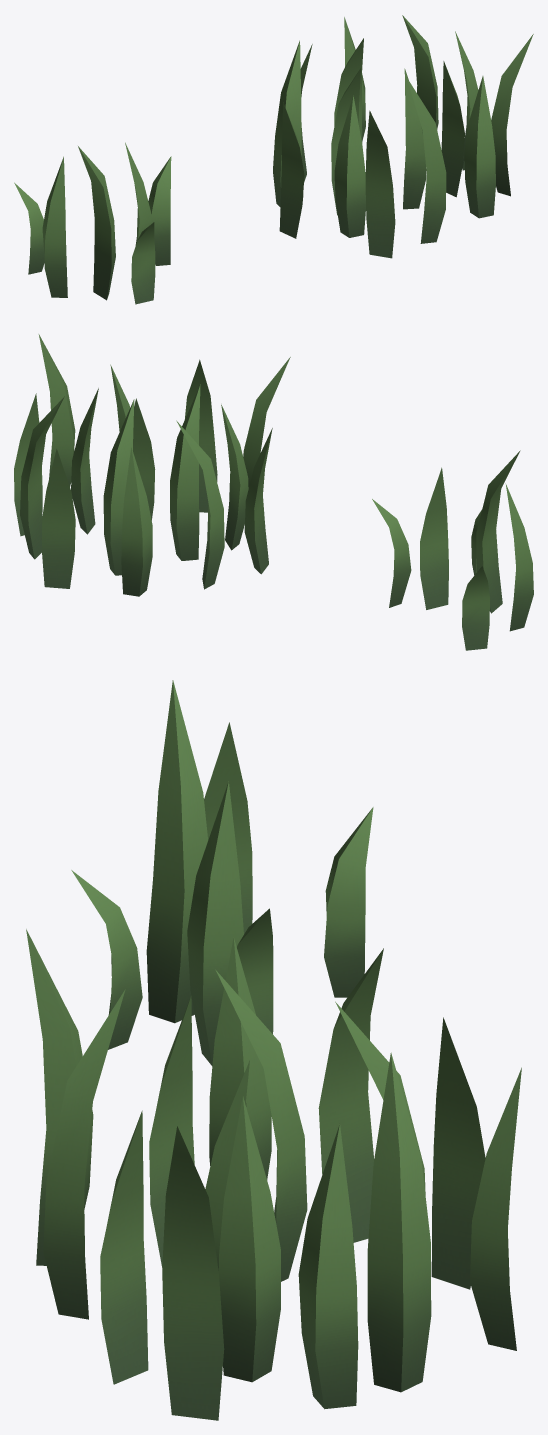
The model's file is grass_patches.glb.
3 renders of one model, top to bottom at view 1: azimuth 30°, elevation 25°; view 2: azimuth 150°, elevation 25°; view 3: azimuth 270°, elevation 25°, orthographic. The views are drawn at different scales.
Parts seen in each view (by area): view 1: Grass_Patch_0, Grass_Patch_1; view 2: Grass_Patch_0, Grass_Patch_1; view 3: Grass_Patch_0, Grass_Patch_1.
Boxes of the visible parts, x1=… form: Grass_Patch_0: x1=273, y1=15, x2=533, y2=258; Grass_Patch_1: x1=14, y1=142, x2=171, y2=304; Grass_Patch_0: x1=14, y1=334, x2=290, y2=596; Grass_Patch_1: x1=372, y1=450, x2=533, y2=650; Grass_Patch_0: x1=26, y1=929, x2=521, y2=1420; Grass_Patch_1: x1=71, y1=680, x2=373, y2=1065.
Bounding box in the file's own units: 1.62 × 0.5067 × 0.7254.
1 material, 1 textured.
